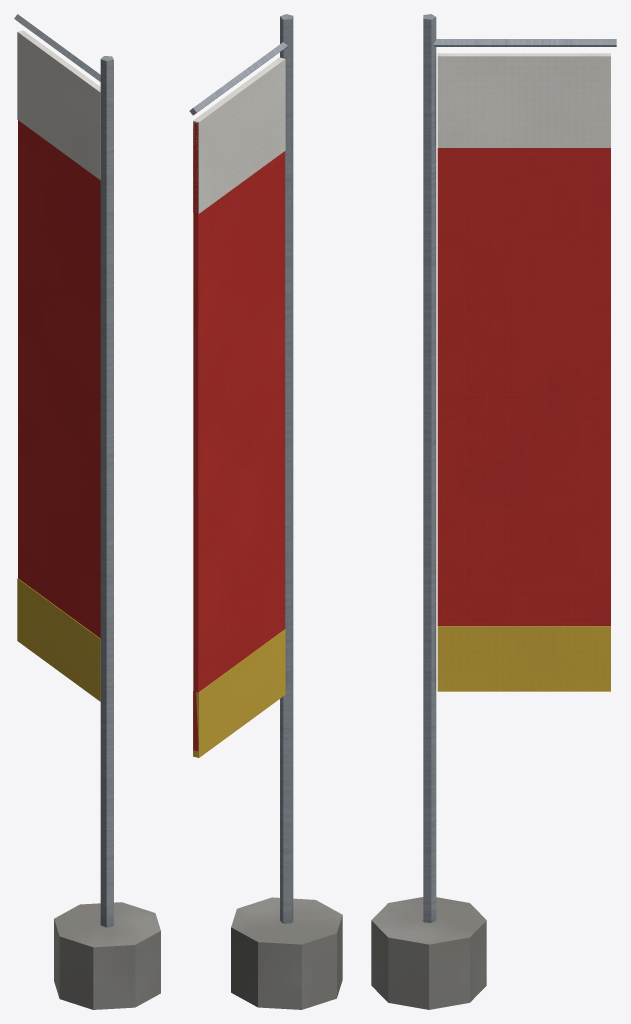
File: nobori_tex.glb
3 renders of one model, left to right at view 1: azimuth 30°, elevation 25°; view 2: azimuth 150°, elevation 25°; view 3: azimuth 270°, elevation 25°, orthographic. The views are drawn at different scales.
Parts seen in each view (by area): view 1: nobori; view 2: nobori; view 3: nobori.
Part boxes in pixels (x1=…): nobori: x1=14, y1=14, x2=160, y2=1009; nobori: x1=189, y1=14, x2=342, y2=1009; nobori: x1=371, y1=14, x2=616, y2=1009.
Size of the model in its own units: 0.4 by 3.71 by 0.85.
Materials: 5 (5 with a texture image).
